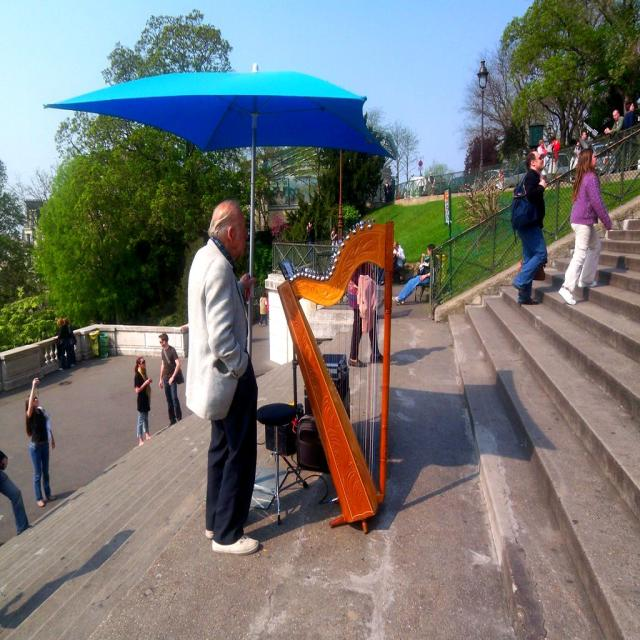harp: (276, 218, 402, 529)
